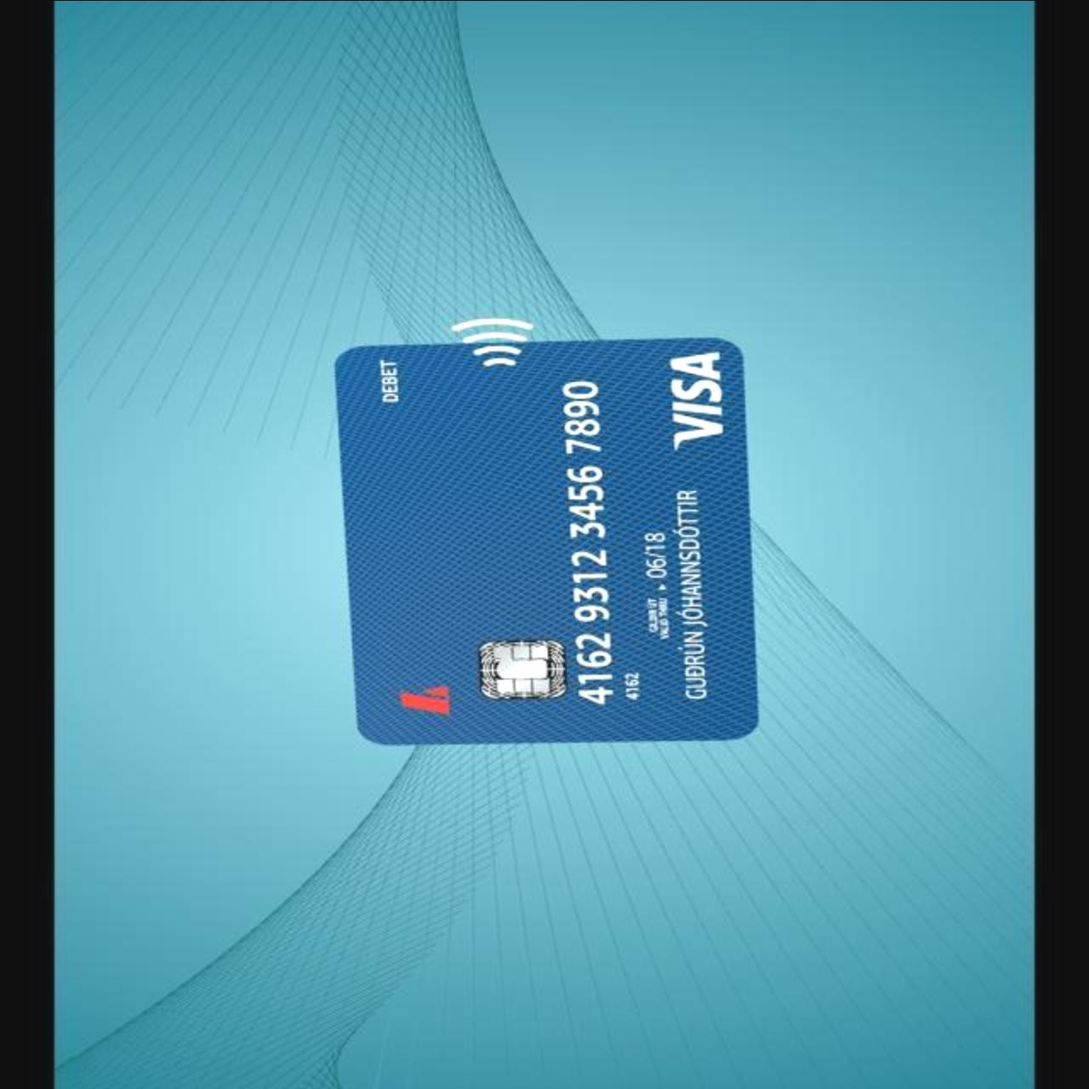credit_card: (337, 336, 753, 743)
